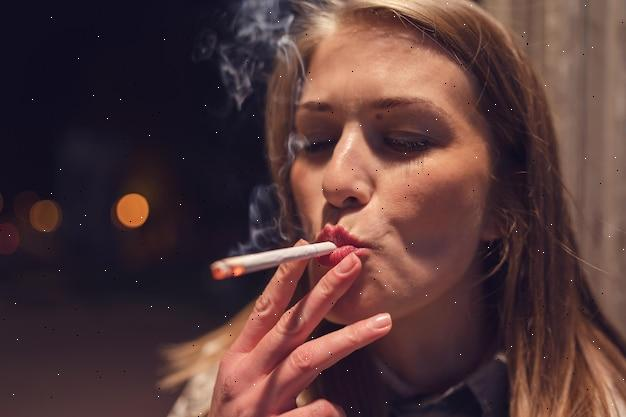cigarette: (210, 242, 336, 279)
